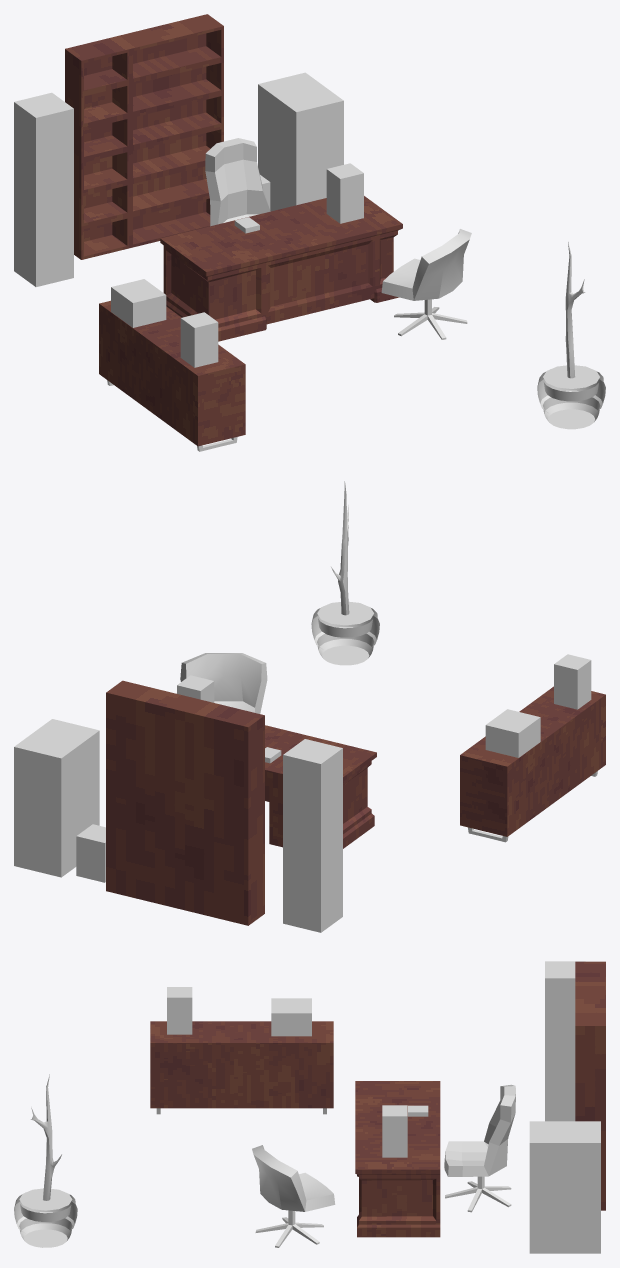
The model's file is office.glb.
3 renders of one model, top to bottom at view 1: azimuth 30°, elevation 25°; view 2: azimuth 150°, elevation 25°; view 3: azimuth 270°, elevation 25°, orthographic. The views are drawn at different scales.
Parts seen in each view (by area): view 1: Bookshelf, Desk_Main, Credenza, Coat_Rack, Filing_Cabinet, Chair, Chair.001, Plant_Large, Fax_Machine, Lamp_Desk, Plant_Small, dirt (+2 smaller); view 2: Bookshelf, Credenza, Filing_Cabinet, Coat_Rack, Desk_Main, Chair.001, Plant_Large, Fax_Machine, Plant_Small, Trash_Can, dirt, tree_generated (+1 smaller); view 3: Credenza, Desk_Main, Filing_Cabinet, Bookshelf, Coat_Rack, Chair, Chair.001, Plant_Large, Fax_Machine, Lamp_Desk, Plant_Small, tree_generated (+3 smaller).
Part boxes in pixels (box(x1,y1,x2,y2)): Bookshelf: box(65, 14, 223, 259); Desk_Main: box(160, 196, 402, 341); Credenza: box(99, 300, 245, 446); Coat_Rack: box(14, 92, 73, 286); Filing_Cabinet: box(258, 72, 343, 211); Chair: box(205, 138, 270, 226); Chair.001: box(381, 229, 471, 300); Plant_Large: box(537, 371, 605, 429); Fax_Machine: box(111, 279, 166, 327); Lamp_Desk: box(326, 163, 363, 223); Plant_Small: box(180, 312, 218, 367); dirt: box(543, 365, 599, 388); Bookshelf: box(106, 680, 264, 925); Credenza: box(460, 686, 605, 836); Filing_Cabinet: box(14, 719, 99, 877); Coat_Rack: box(283, 739, 342, 932); Desk_Main: box(265, 725, 376, 848); Chair.001: box(180, 653, 267, 713); Plant_Large: box(311, 608, 379, 665); Fax_Machine: box(485, 709, 540, 757); Plant_Small: box(554, 654, 591, 709); Trash_Can: box(76, 824, 105, 882); dirt: box(317, 601, 373, 625); tree_generated: box(331, 481, 349, 615); Credenza: box(150, 1021, 333, 1108); Desk_Main: box(355, 1081, 440, 1237); Filing_Cabinet: box(529, 1121, 600, 1253); Bookshelf: box(575, 961, 605, 1210); Coat_Rack: box(545, 961, 585, 1121); Chair: box(444, 1084, 515, 1176); Chair.001: box(252, 1145, 335, 1211); Plant_Large: box(14, 1194, 77, 1247); Fax_Machine: box(271, 998, 311, 1036); Lamp_Desk: box(382, 1105, 407, 1157); Plant_Small: box(167, 987, 192, 1034); tree_generated: box(30, 1074, 61, 1200).
Size of the model in its own units: 3.69 by 2 by 5.81.
Materials: 3 (3 with a texture image).
